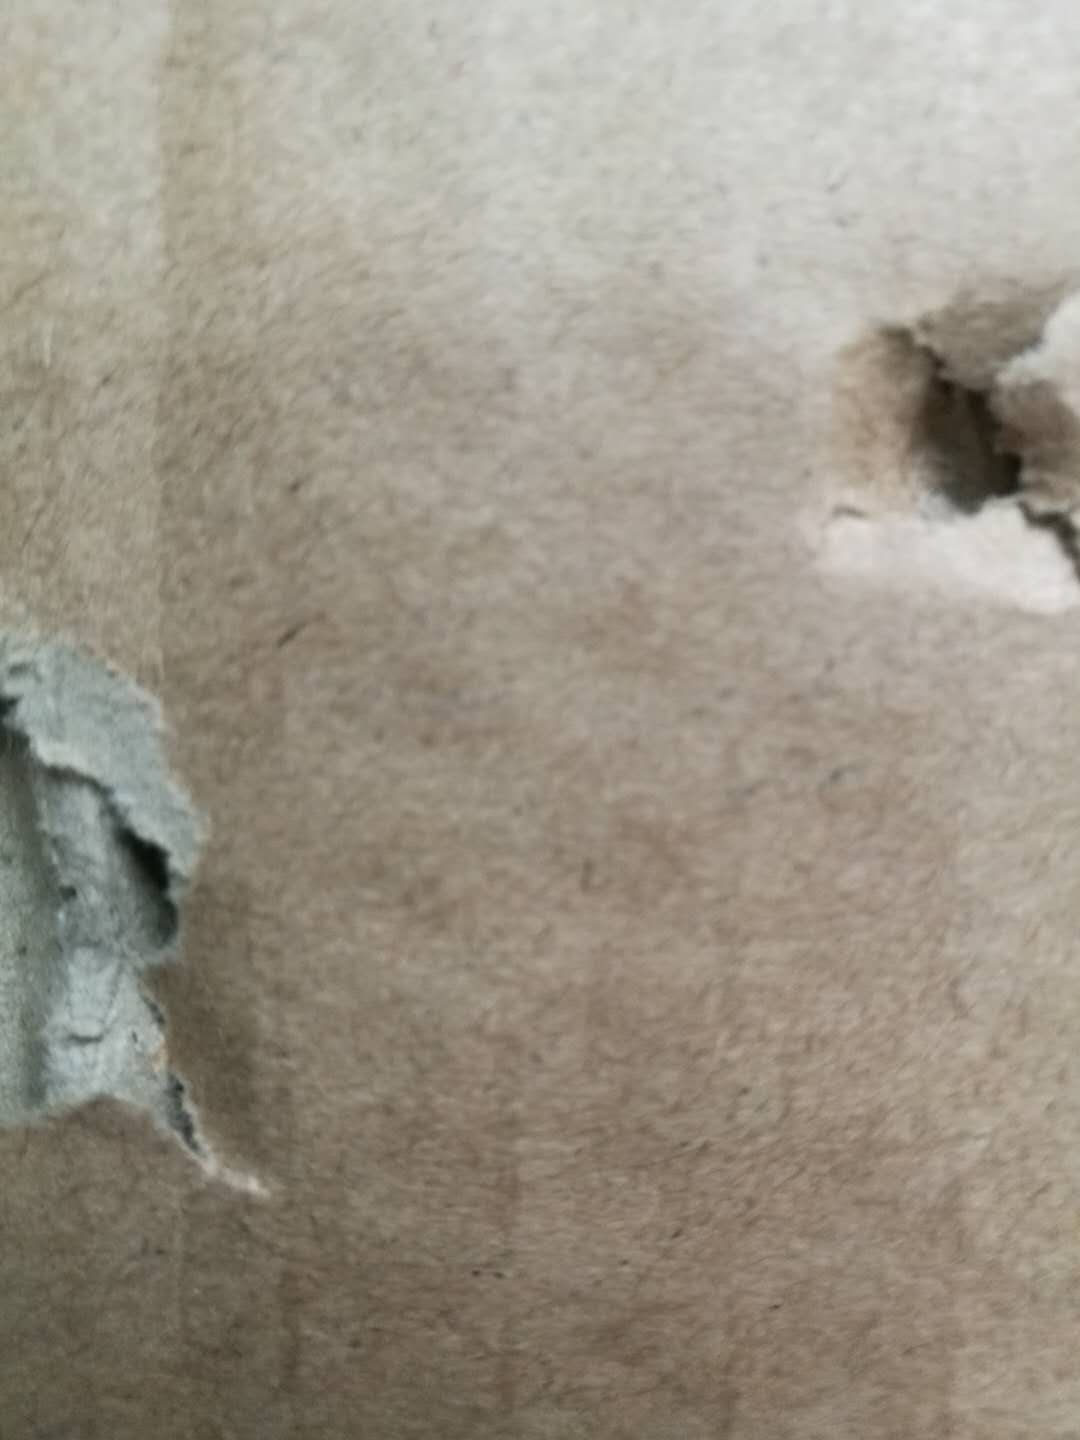defect: (2, 576, 322, 1262), (760, 228, 1080, 669)
